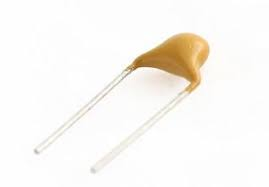ceramic capacitor: (108, 21, 239, 135)
